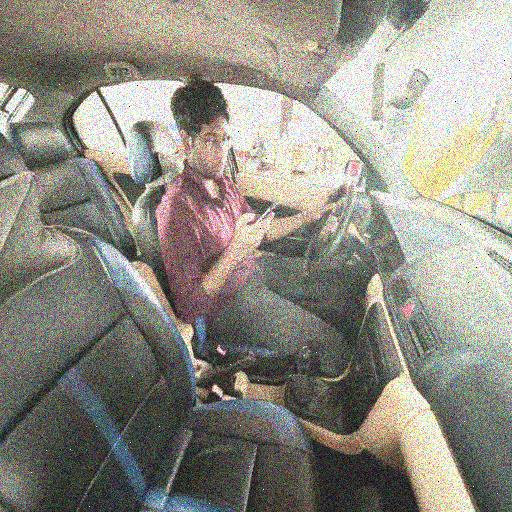Texting_on_phone: (157, 77, 336, 360)
